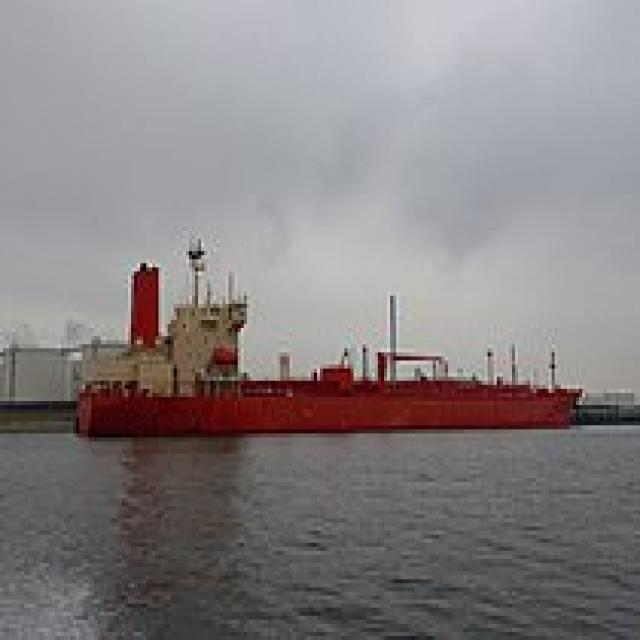Tanker: (67, 231, 582, 437)
